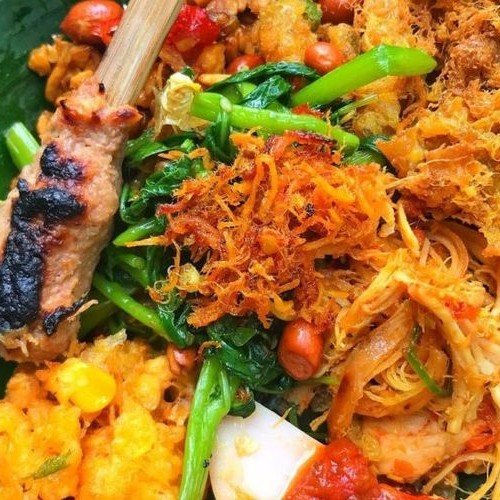nasi jinggo: (12, 22, 463, 478)
